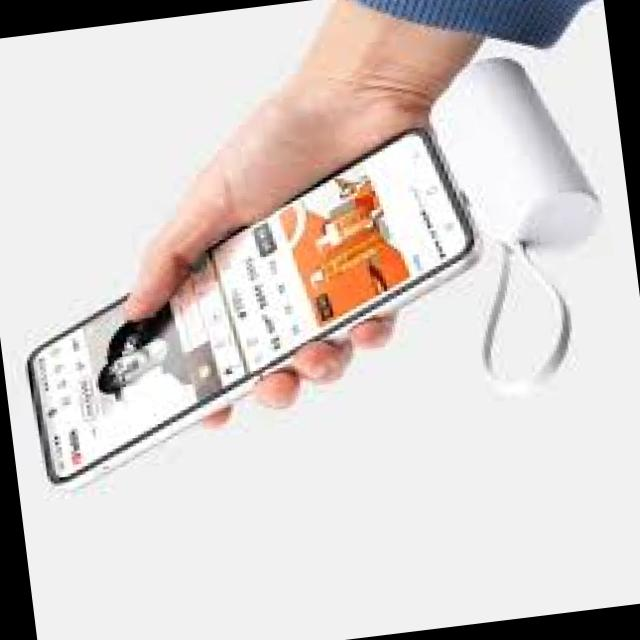portable-charger: (425, 46, 610, 264)
